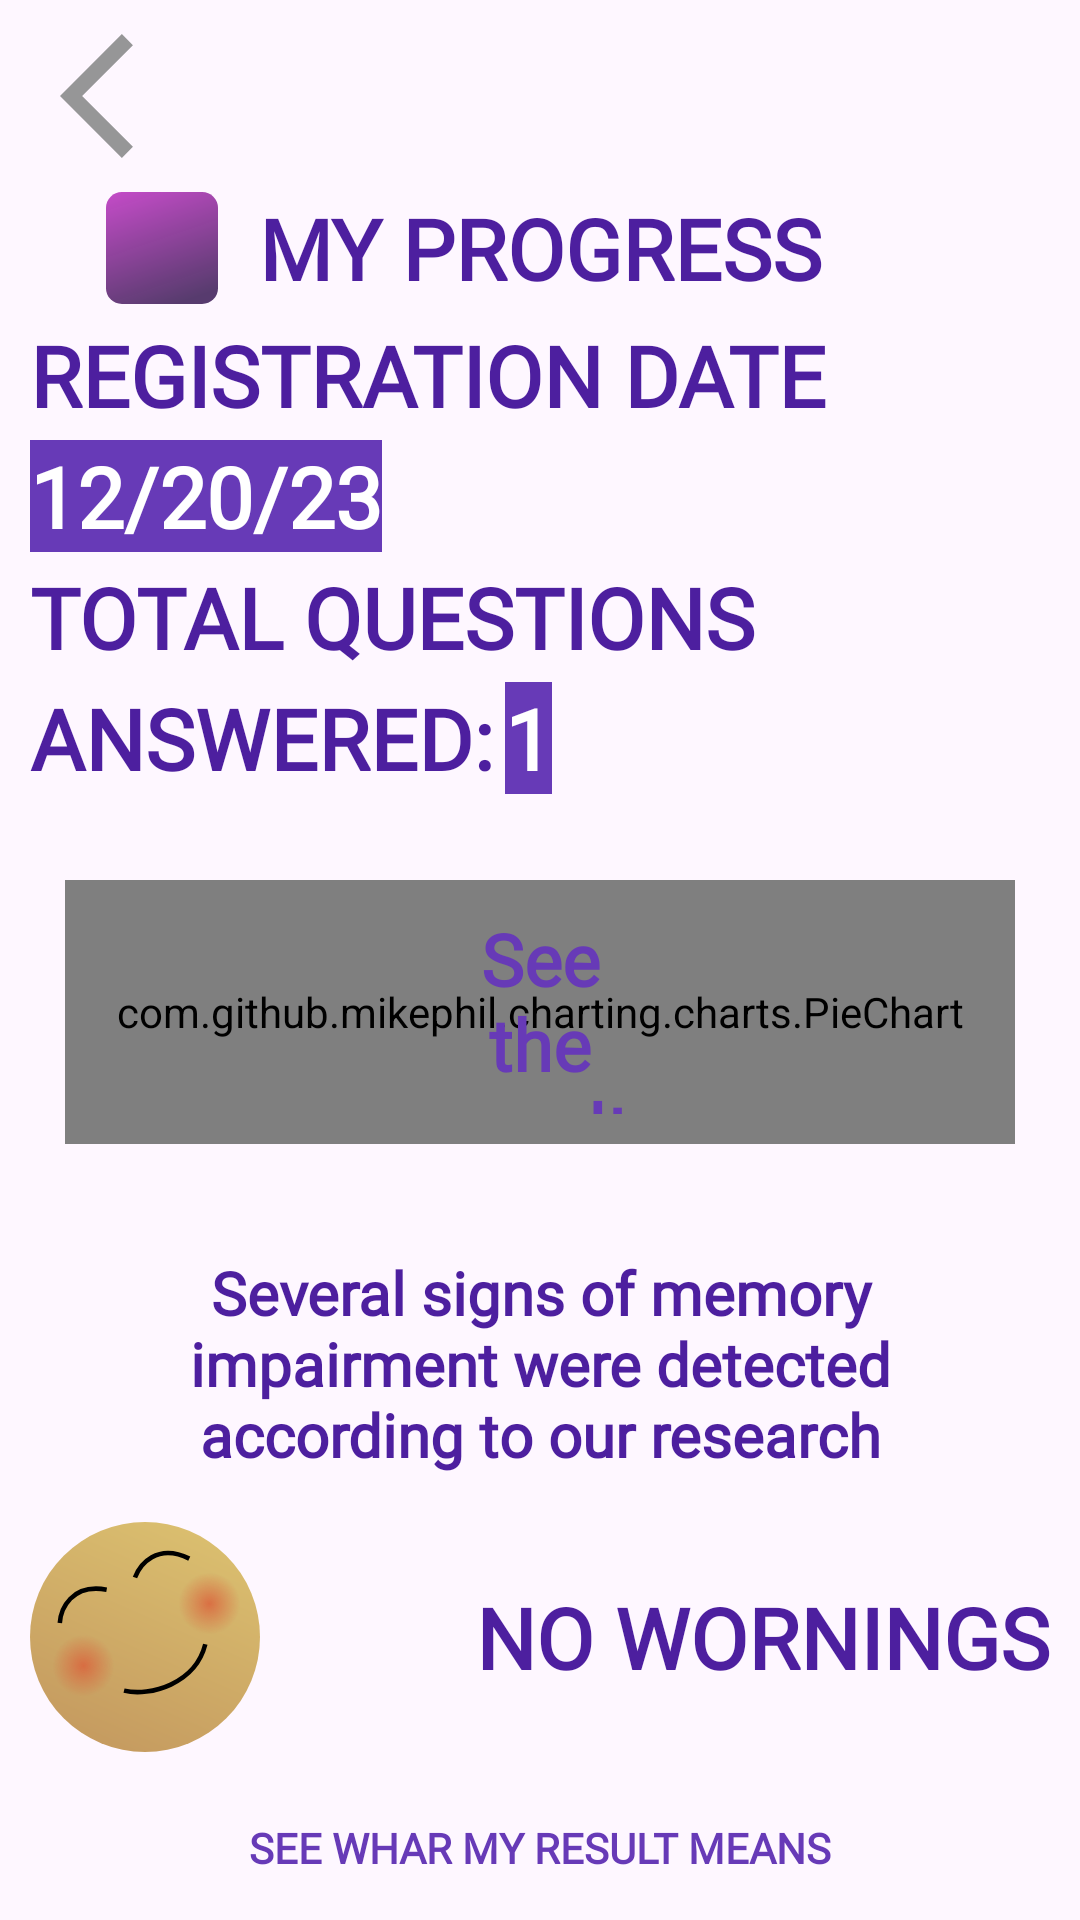

Where to tap for icons on this 1080x1920 app screen, as (x=x, y=y):
arrow back: (x=96, y=96)
smile: (x=145, y=1637)
